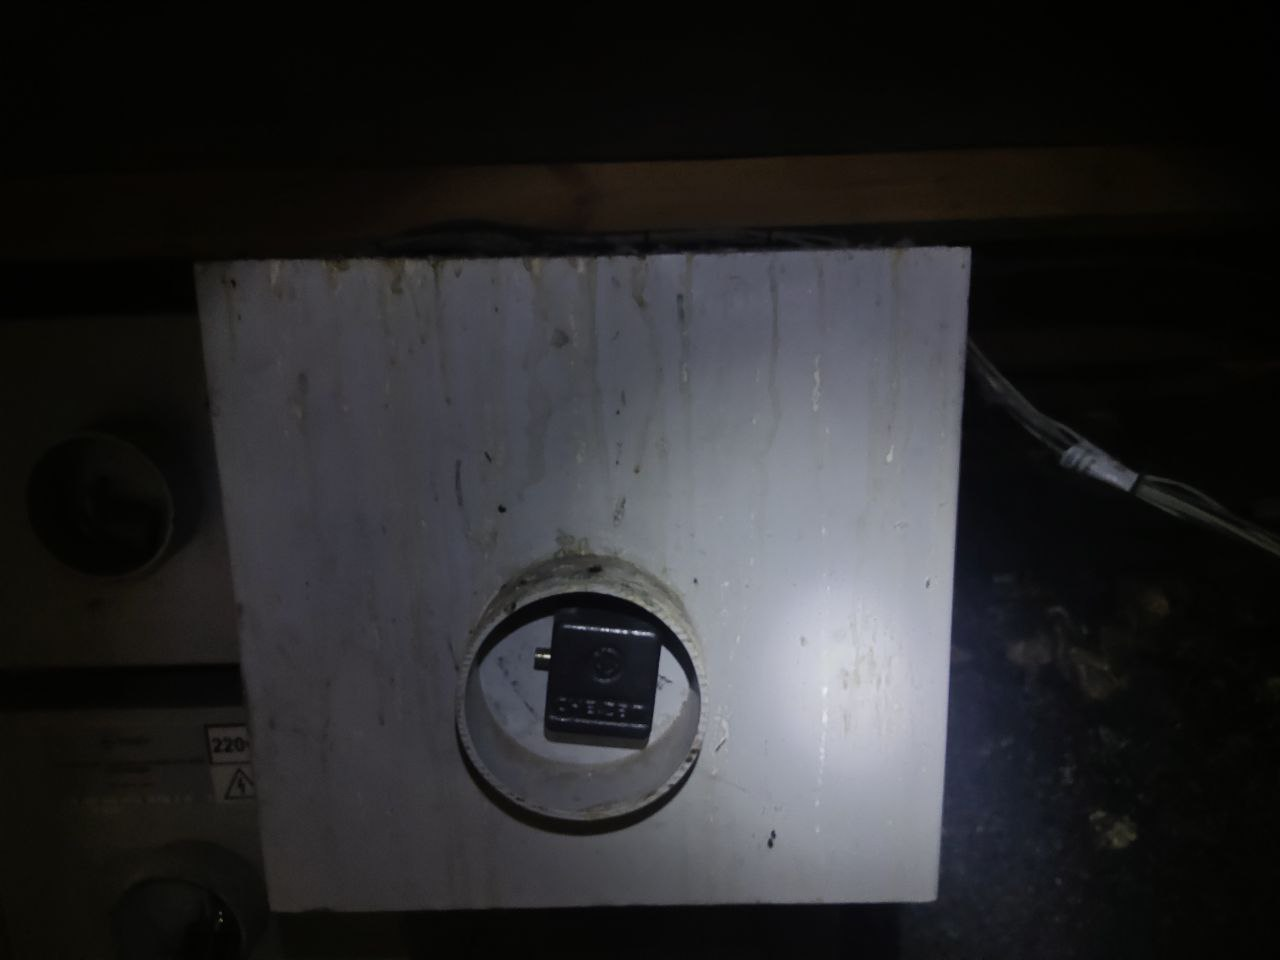shta-9: (185, 243, 976, 912)
